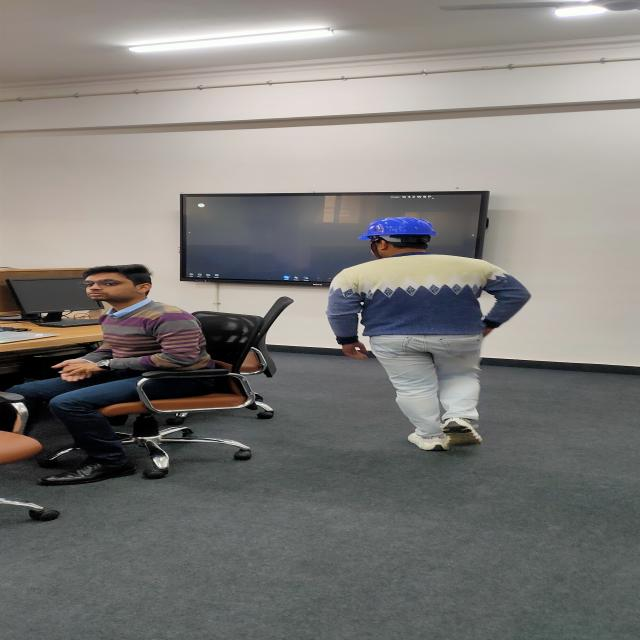no jacket: (325, 217, 534, 453)
unsafe: (40, 264, 213, 486)
